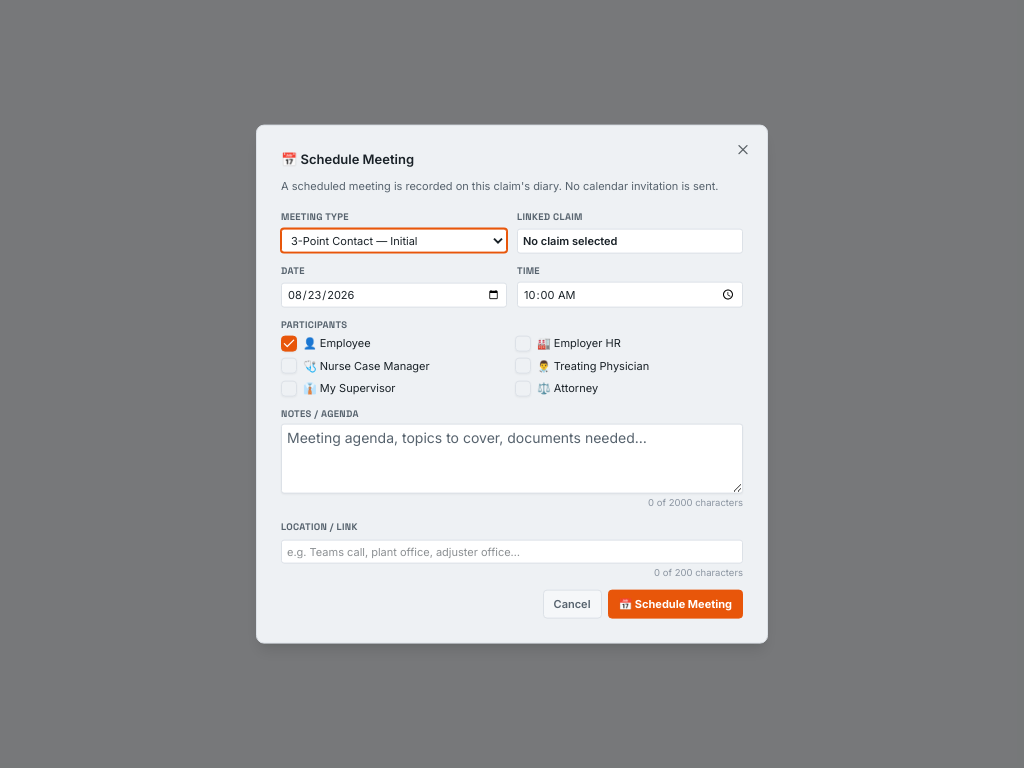
Scenario: saving with no claim selected is refused inline, and nothing is sent
Expected: the dialog with test id "meeting-scheduler" is shown, x1=256 y1=125 x2=768 y2=643
Click the button with test id "scheduler-save" at (675, 604), box x1=608 y1=590 x2=743 y2=618
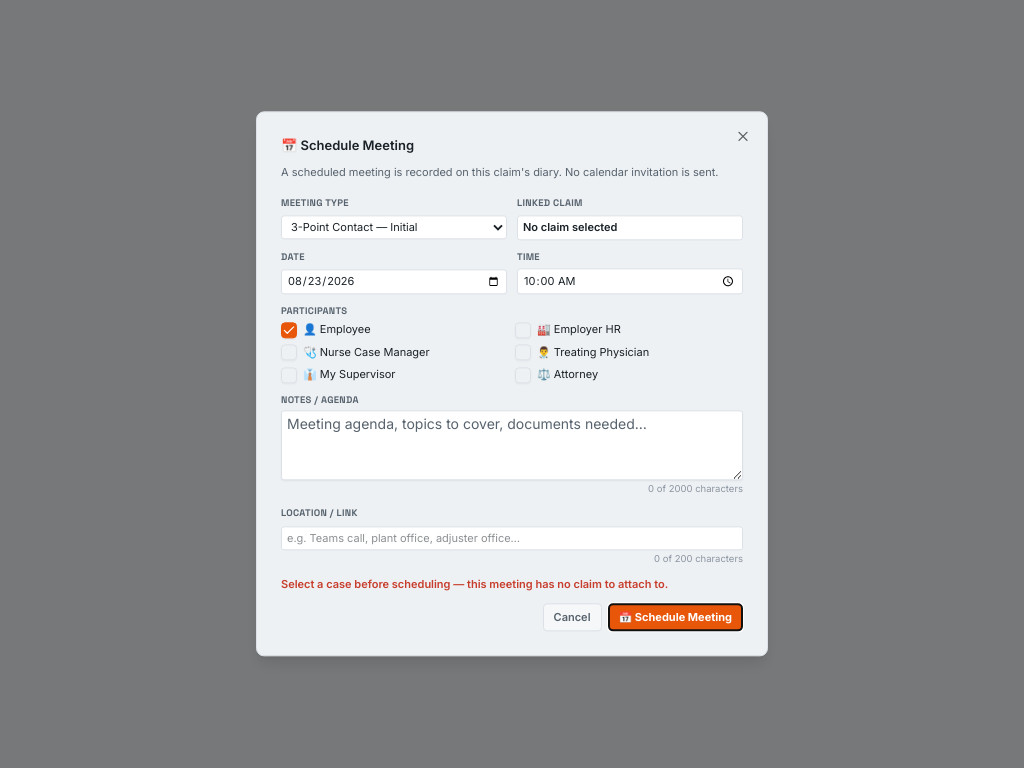
Expected: the message with test id "scheduler-error" reads "Select a case before scheduling — this meeting has no claim to attach to.", x1=281 y1=578 x2=668 y2=592
